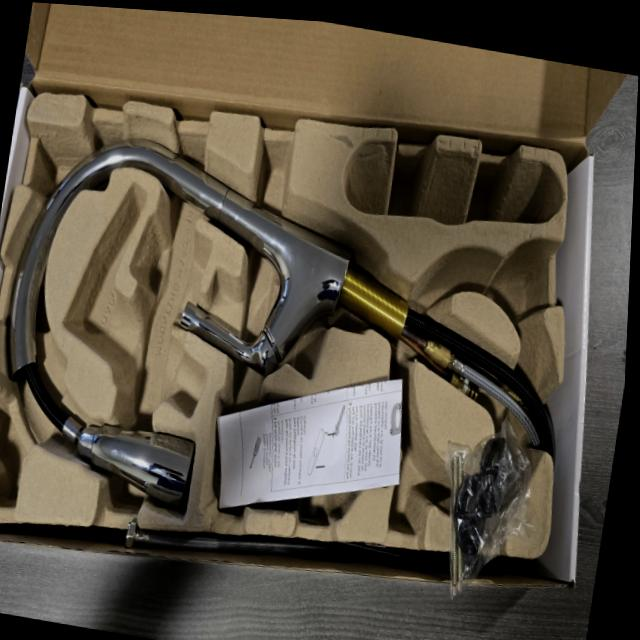1: (6, 132, 556, 507)
2m: (64, 180, 208, 416)
3m: (212, 399, 391, 520)
4m: (343, 137, 563, 223)
5m: (498, 260, 540, 319)
6m: (386, 402, 451, 539)
7: (448, 408, 531, 603)
8: (217, 374, 402, 510)
